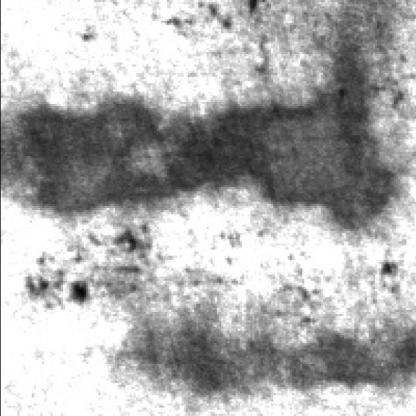patches: (0, 63, 399, 220), (114, 326, 412, 402)
